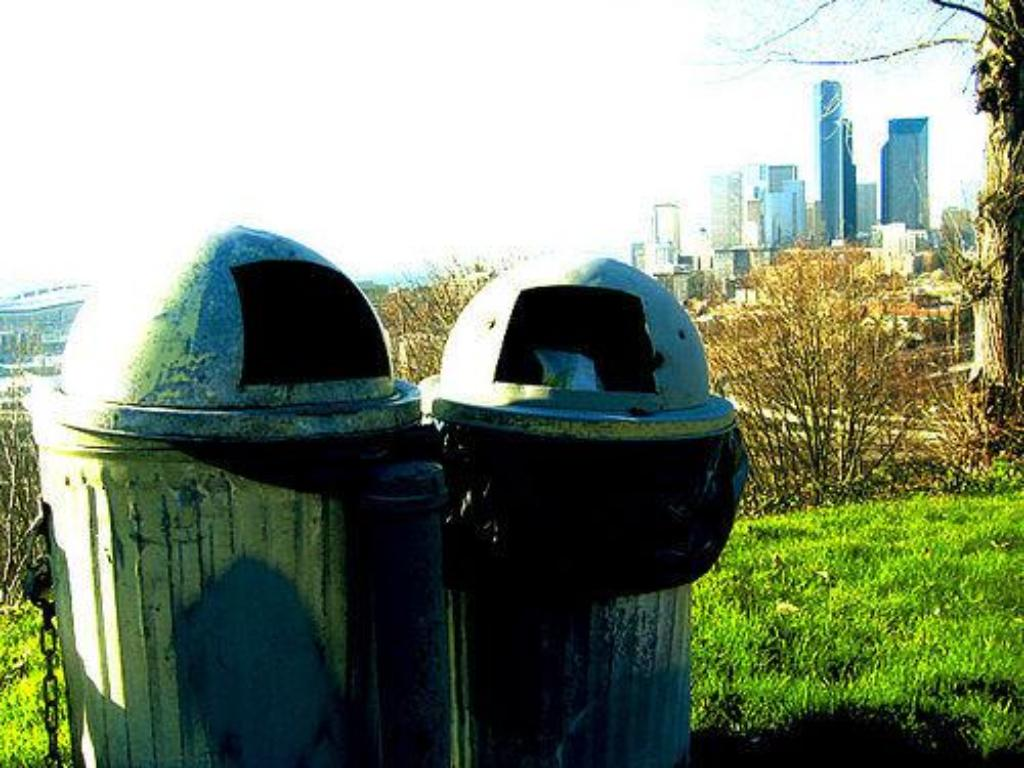dustbin: (61, 213, 745, 768)
